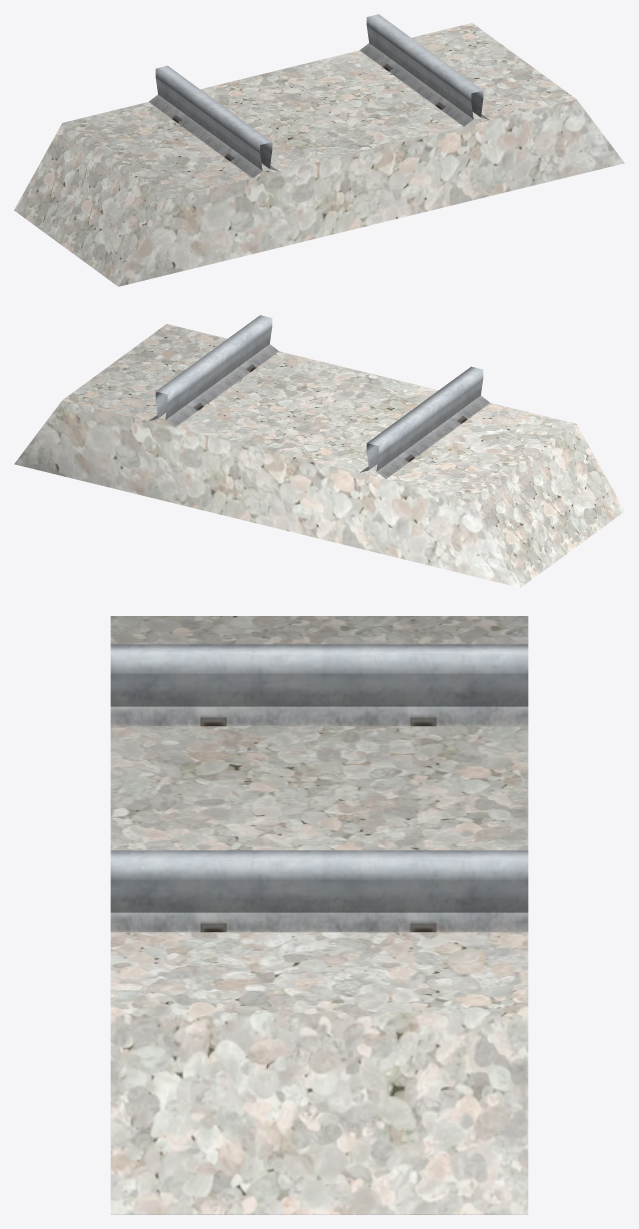
File: track_flex.glb
3 views of the same model, one above another, from view 1: azimuth 30°, elevation 25°; view 2: azimuth 150°, elevation 25°; view 3: azimuth 270°, elevation 25° (orthographic). The views are drawn at different scales.
Parts seen in each view (by area): view 1: G15v2; view 2: G15v2; view 3: G15v2.
Boxes of the visible parts, x1,y1,x2,y2 form: G15v2: [14, 14, 624, 286]; G15v2: [14, 315, 624, 587]; G15v2: [110, 616, 528, 1214].
Size of the model in its own units: 0.42 by 0.085 by 0.15.
Materials: 2 (2 with a texture image).
